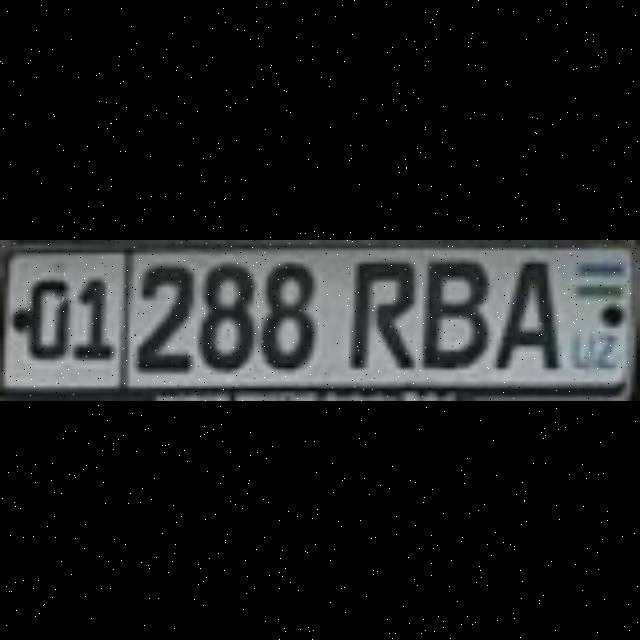0: (24, 276, 64, 354)
1: (70, 272, 110, 354)
2: (129, 258, 189, 368)
8: (253, 257, 313, 363), (194, 257, 248, 363)
A: (493, 252, 557, 364)
B: (419, 257, 483, 363)
R: (346, 257, 410, 363)
